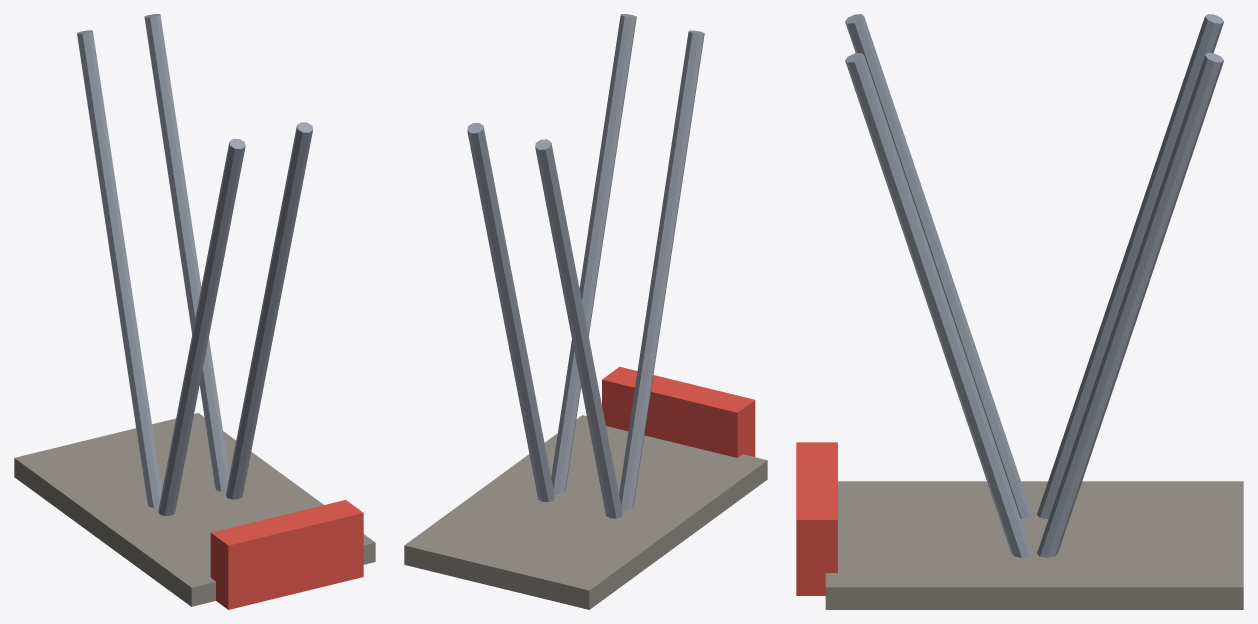
Rendered from ferris_base.glb.
3 views of the same model, side by side, from view 1: azimuth 30°, elevation 25°; view 2: azimuth 150°, elevation 25°; view 3: azimuth 270°, elevation 25° (orthographic). The views are drawn at different scales.
Parts seen in each view (by area): view 1: ferris_base; view 2: ferris_base; view 3: ferris_base.
Boxes of the visible parts, x1,y1,x2,y2 form: ferris_base: (14,14,375,609); ferris_base: (404,14,767,609); ferris_base: (796,14,1243,609).
Bounding box in the file's own units: 3 × 6.96 × 5.35.
